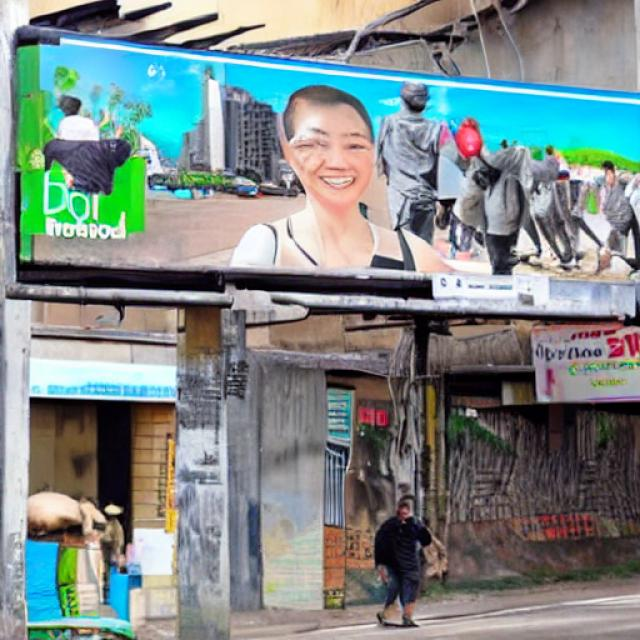Billboard: (12, 21, 640, 325)
